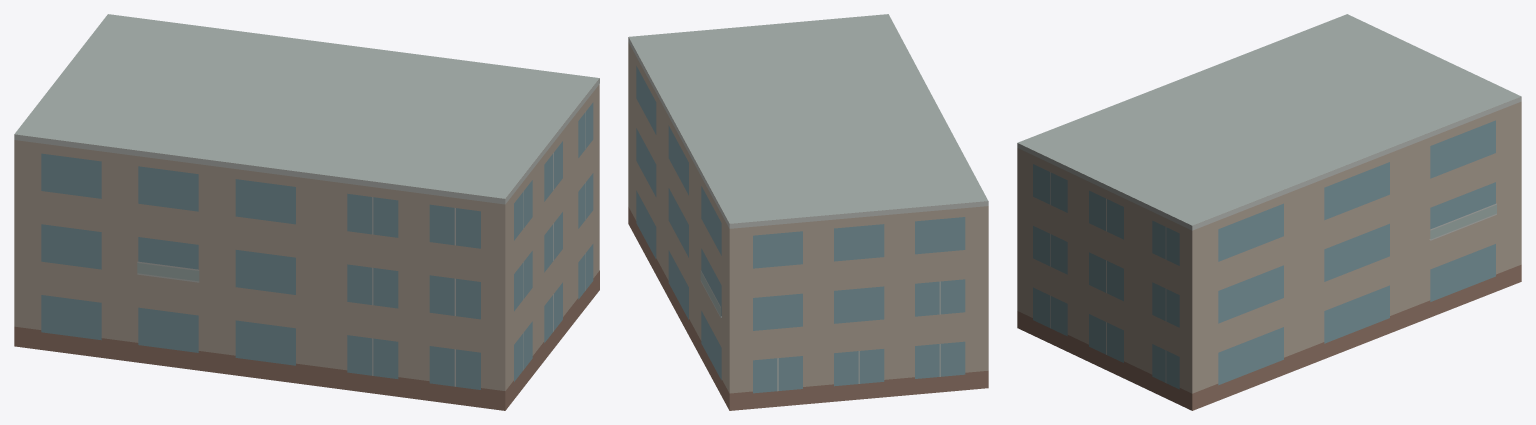
The model's file is survey-upis-32836347.glb.
3 views of the same model, side by side, from view 1: azimuth 30°, elevation 25°; view 2: azimuth 150°, elevation 25°; view 3: azimuth 270°, elevation 25° (orthographic). The views are drawn at different scales.
Parts seen in each view (by area): view 1: survey-upis-32836347.tmp; view 2: survey-upis-32836347.tmp; view 3: survey-upis-32836347.tmp.
Boxes of the visible parts, box(x1,y1,x2,y2) form: survey-upis-32836347.tmp: box(14, 14, 599, 410); survey-upis-32836347.tmp: box(628, 14, 988, 410); survey-upis-32836347.tmp: box(1017, 14, 1521, 410).
Bounding box in the file's own units: 22.45 × 9.15 × 22.6.
